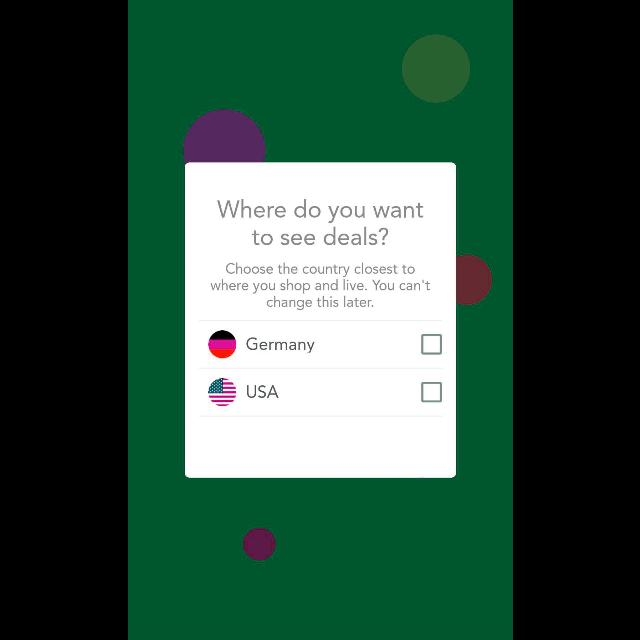checkbox: (421, 334, 442, 354), (421, 382, 442, 402)
image: (208, 378, 236, 407), (208, 330, 236, 358)
panel: (184, 162, 456, 478)
text: (209, 262, 429, 310), (217, 198, 423, 246), (246, 338, 314, 354), (246, 386, 278, 398)
